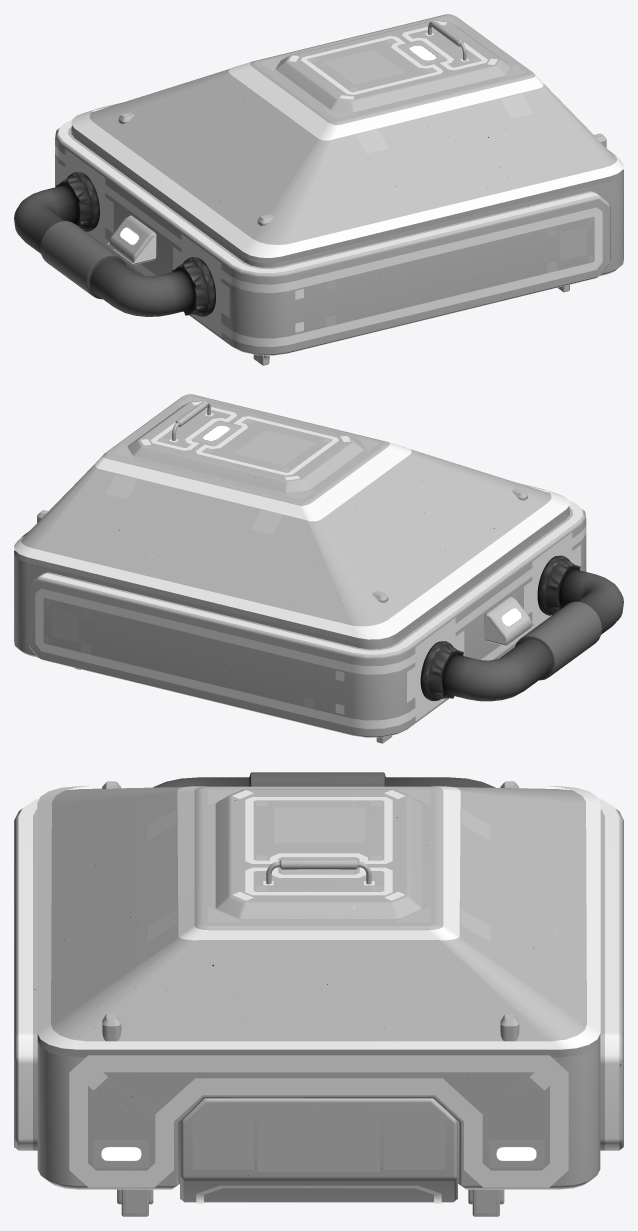
The model's file is SM_Construction_3_Merged.fbx.
3 renders of one model, top to bottom at view 1: azimuth 30°, elevation 25°; view 2: azimuth 150°, elevation 25°; view 3: azimuth 270°, elevation 25°, orthographic. The views are drawn at different scales.
Visible parts, largest first — view 1: SM_Construction_3_Merged_LOD0; view 2: SM_Construction_3_Merged_LOD0; view 3: SM_Construction_3_Merged_LOD0.
Boxes of the visible parts, x1,y1,x2,y2 form: SM_Construction_3_Merged_LOD0: [14, 14, 623, 365]; SM_Construction_3_Merged_LOD0: [14, 394, 623, 743]; SM_Construction_3_Merged_LOD0: [14, 772, 623, 1216].
Size of the model in its own units: 563 by 439 by 254.
